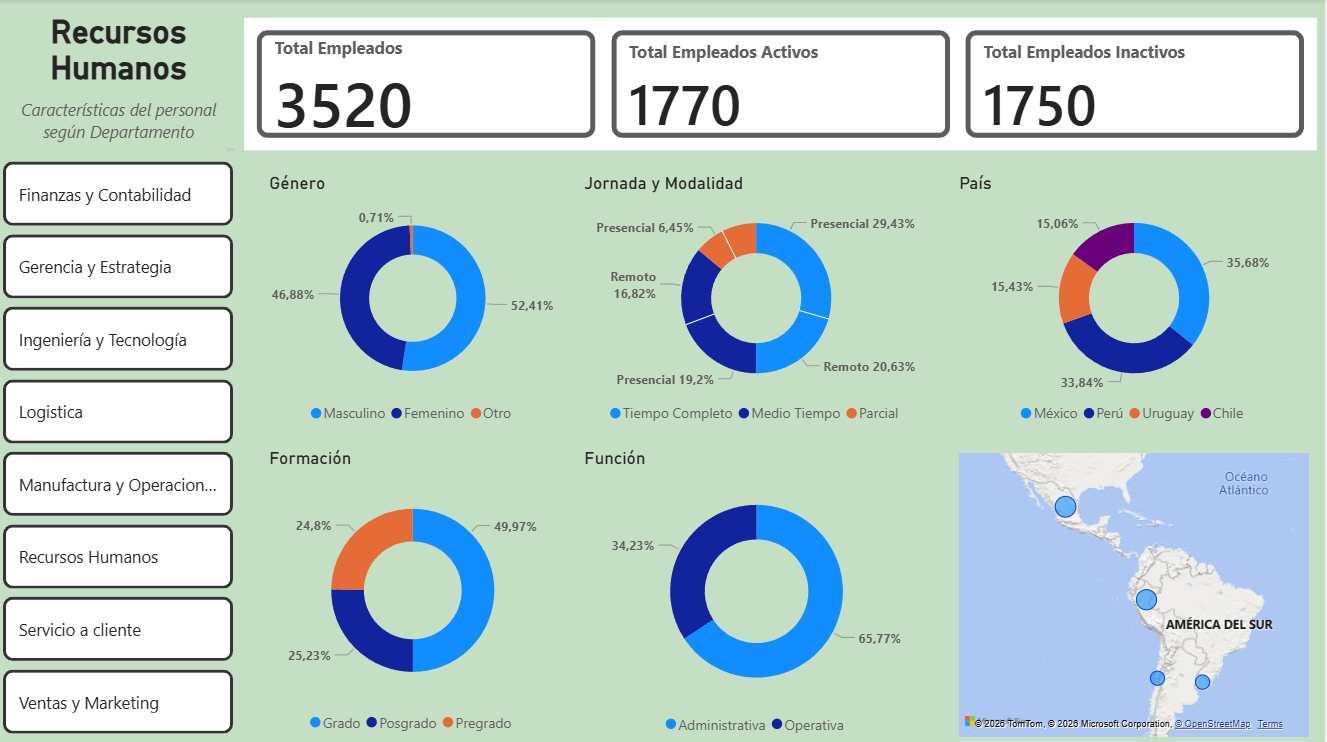

This screenshot's page, from the dashboard's own definition file:
{"tool":"powerbi","page":{"name":"REPORTE DE RRHH","canvas":[1280,720],"ordinal":2},"visuals":[{"type":"cardVisual","fields":{"Data":["Tabla1.TOTAL EMPLEADOS","Tabla1.TOTAL DE EMPLEADOS ACTIVOS","Tabla1.TOTAL DE EMPLEADOS INACTIVOS"]},"box":[232.8,13.3,1047.2,138.7],"z":0},{"type":"donutChart","title":"Género","fields":{"Y":["Tabla1.TOTAL EMPLEADOS"],"Category":["Tabla1.Género"]},"box":[256.8,167.4,287.1,251],"z":1000},{"type":"donutChart","title":"Formación","fields":{"Y":["Tabla1.TOTAL EMPLEADOS"],"Category":["Tabla1.Educación"]},"box":[256.8,432.8,287.1,284.2],"z":2000},{"type":"donutChart","title":"Función","fields":{"Y":["Tabla1.TOTAL EMPLEADOS"],"Category":["Tabla1.Función"]},"box":[561,433.1,342.6,285.9],"z":3000},{"type":"donutChart","title":"País","fields":{"Y":["Tabla1.TOTAL EMPLEADOS"],"Category":["Tabla1.Región"]},"box":[922.9,167.7,347.5,250.9],"z":4000},{"type":"donutChart","title":"Jornada y Modalidad","fields":{"Y":["Tabla1.TOTAL EMPLEADOS"],"Category":["Tabla1.Jornada"],"Series":["Tabla1.Modalidad"]},"box":[561.2,167.4,341.9,251],"z":5000},{"type":"advancedSlicerVisual","fields":{"Values":["Tabla1.Departamento"]},"box":[0,152,232.8,564.6],"z":6000},{"type":"map","fields":{"Category":["Tabla1.Región"],"Size":["Tabla1.Total Empleados"]},"box":[922.9,433.1,347.5,283.5],"z":7000},{"type":"textbox","title":"Recursos Humanos","box":[0,13.3,232.8,138.7],"z":8000}]}

Visuals, with their boxes in screenshot pixels (x1, y1, x2, y2), scaled from the page's 1280x720 canvas onto the 1327x742 screenshot:
cardVisual - Tabla1.TOTAL EMPLEADOS x Tabla1.TOTAL DE EMPLEADOS ACTIVOS: [x1=241, y1=14, x2=1326, y2=157]
"Género" donutChart: [x1=266, y1=173, x2=564, y2=431]
"Formación" donutChart: [x1=266, y1=446, x2=564, y2=739]
"Función" donutChart: [x1=582, y1=446, x2=937, y2=741]
"País" donutChart: [x1=957, y1=173, x2=1317, y2=431]
"Jornada y Modalidad" donutChart: [x1=582, y1=173, x2=936, y2=431]
advancedSlicerVisual - Tabla1.Departamento: [x1=0, y1=157, x2=241, y2=738]
map - Tabla1.Región x Tabla1.Total Empleados: [x1=957, y1=446, x2=1317, y2=738]
"Recursos Humanos" textbox: [x1=0, y1=14, x2=241, y2=157]
